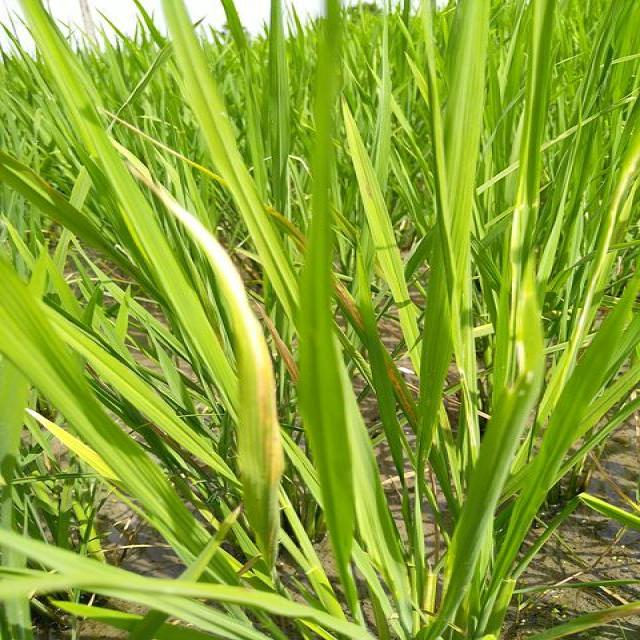Leaf Blight: (163, 196, 287, 565), (253, 301, 297, 386), (388, 352, 419, 425), (336, 276, 364, 331)
